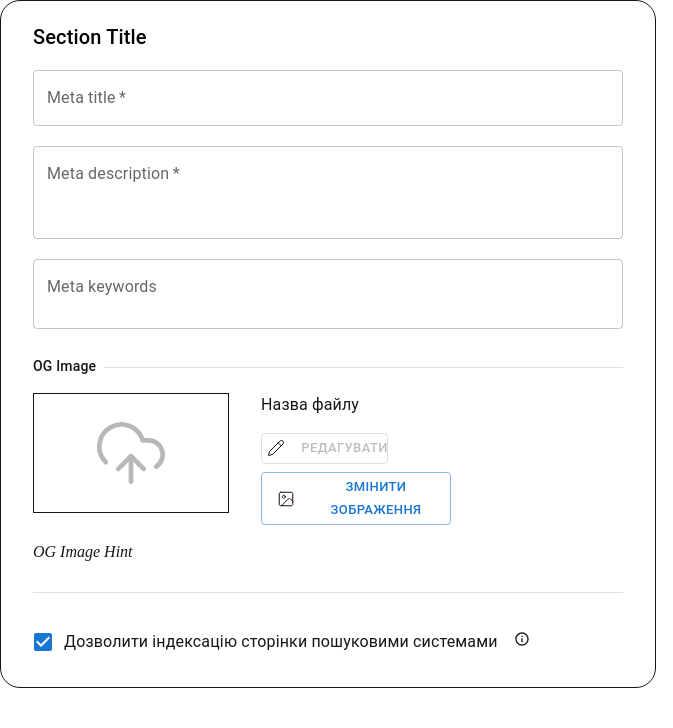
Scenario: SeoMetadataForm › shows error for empty title on blur
Click the field labelled "Meta title *" at (328, 98), box [33,70,623,126]
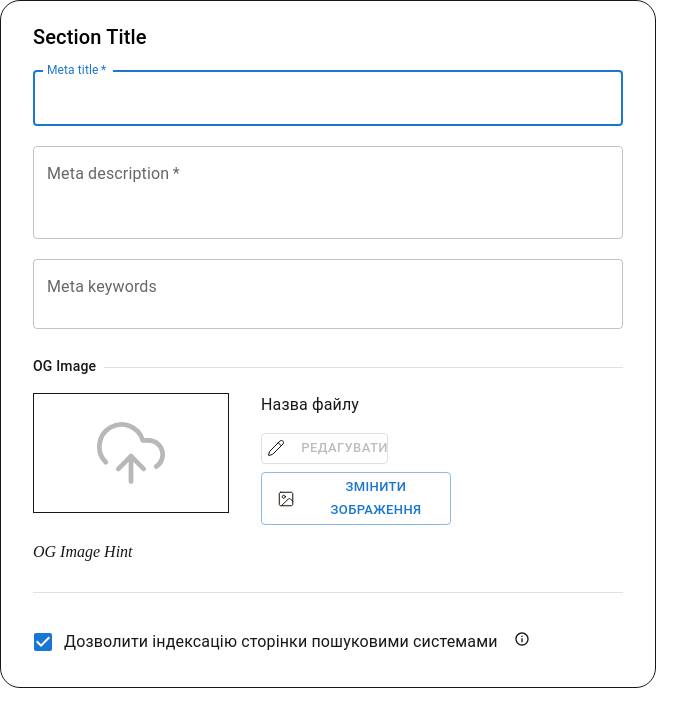
Press Tab
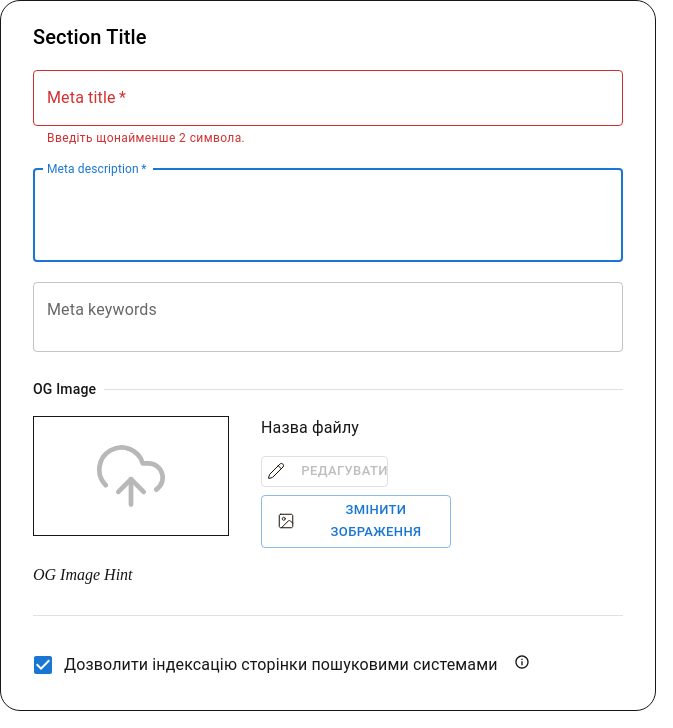
Now the text "Введіть щонайменше 2 символа." is shown, box [47,131,245,145]
